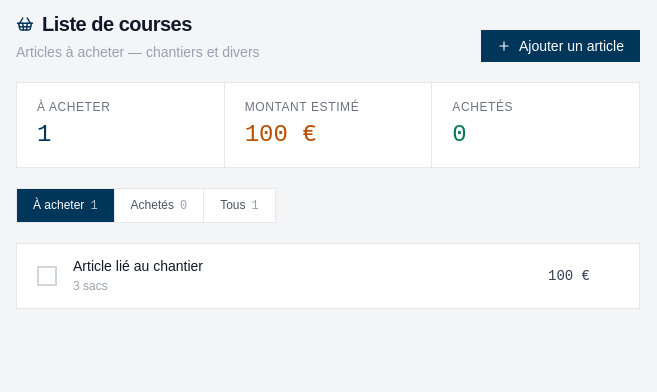
it: shopping-list UI matching Figma Make › keeps the article and surfaces a failed checkbox mutation
This screenshot has width=657, height=392.
Click the checkbox "Article lié au chantier" at (138, 266), box top-left (73, 258), bottom-right (203, 274)
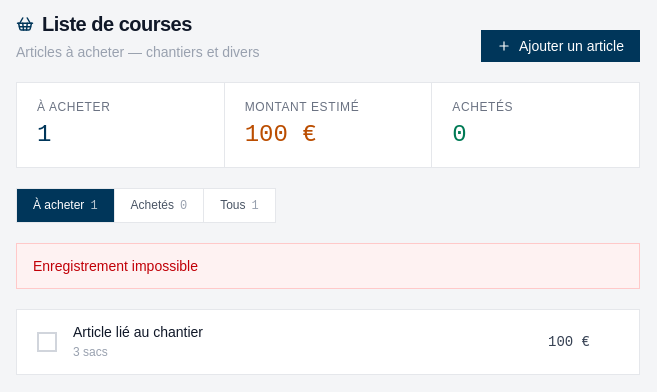
Expected: the checkbox "Article lié au chantier" is shown, top-left (73, 324), bottom-right (203, 340)
Now the message reads "Enregistrement impossible", box top-left (33, 258), bottom-right (198, 274)
